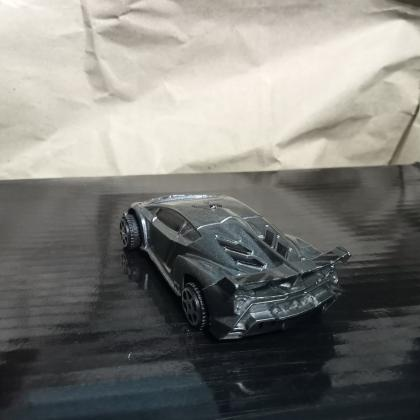Car: (120, 194, 350, 342)
